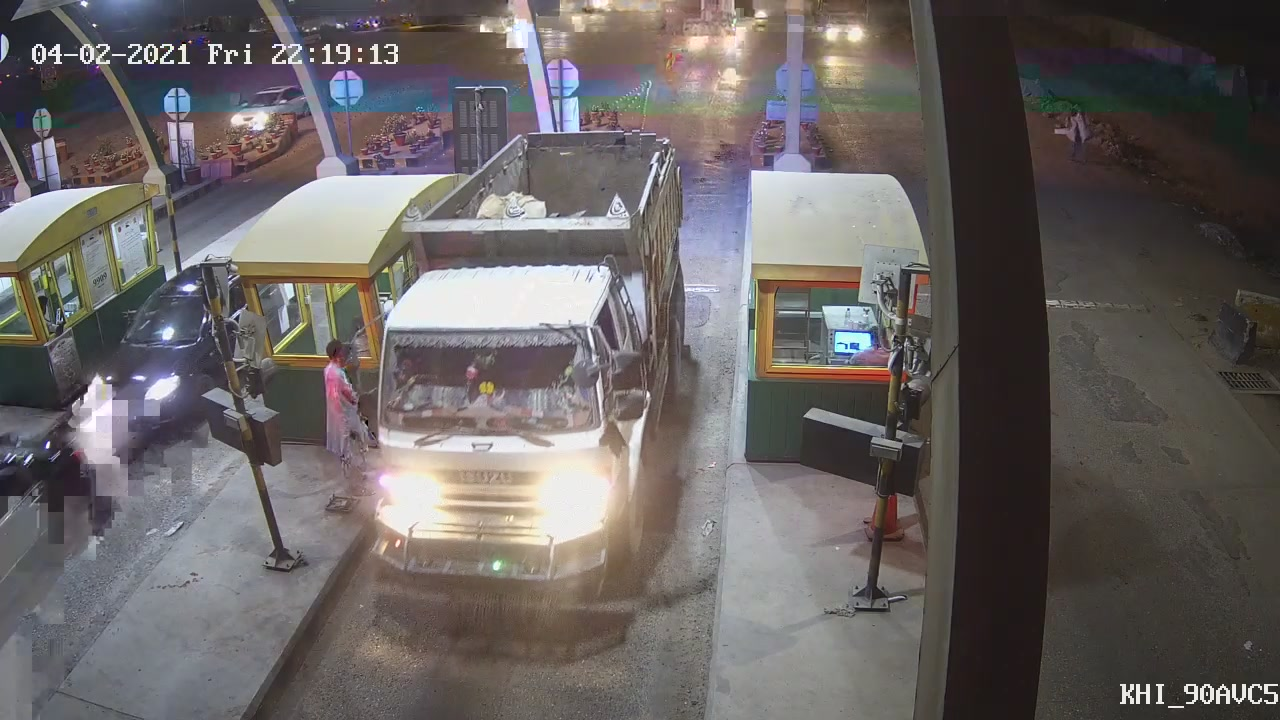F5: (362, 131, 702, 619)
